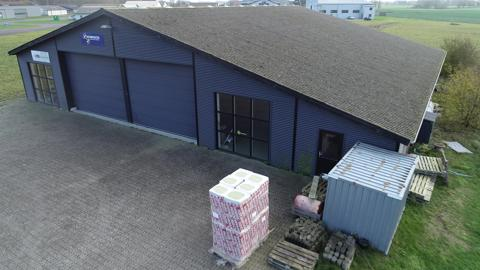RockwoolPallet: (209, 168, 269, 264)
